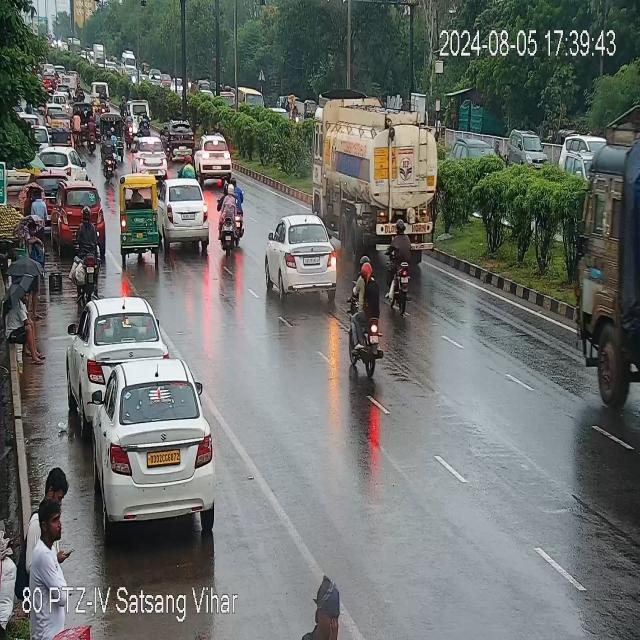2-wheelers: (341, 250, 385, 381), (381, 221, 415, 312), (214, 176, 246, 258), (72, 205, 100, 298), (104, 112, 128, 159), (100, 130, 122, 178), (87, 115, 102, 152), (72, 107, 83, 142), (137, 112, 152, 136), (87, 116, 96, 156), (93, 96, 113, 114), (125, 108, 133, 144), (120, 95, 126, 112)
auto: (117, 174, 164, 260), (49, 116, 71, 144), (81, 99, 88, 137)
car: (89, 361, 216, 531), (68, 296, 165, 407), (261, 219, 340, 304), (162, 178, 214, 251), (194, 132, 237, 180), (52, 177, 81, 247), (33, 146, 88, 180), (511, 127, 546, 169), (136, 138, 170, 177), (561, 134, 588, 175), (170, 119, 198, 153), (46, 96, 70, 116), (129, 97, 150, 118), (90, 78, 108, 102)
pedestrian: (290, 575, 346, 640), (35, 494, 65, 578), (9, 290, 39, 363), (27, 225, 41, 318), (46, 463, 70, 499), (28, 183, 47, 226), (179, 154, 194, 178)
truck: (320, 91, 449, 261), (574, 122, 638, 409)
